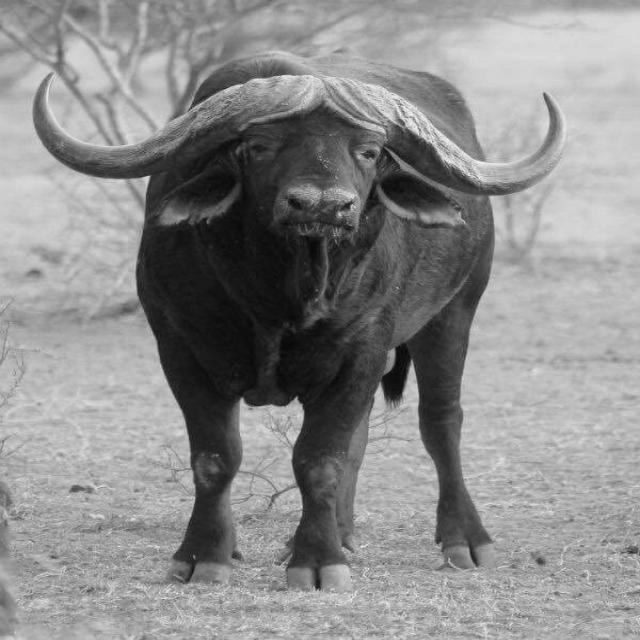Buffalo: (33, 46, 569, 591)
